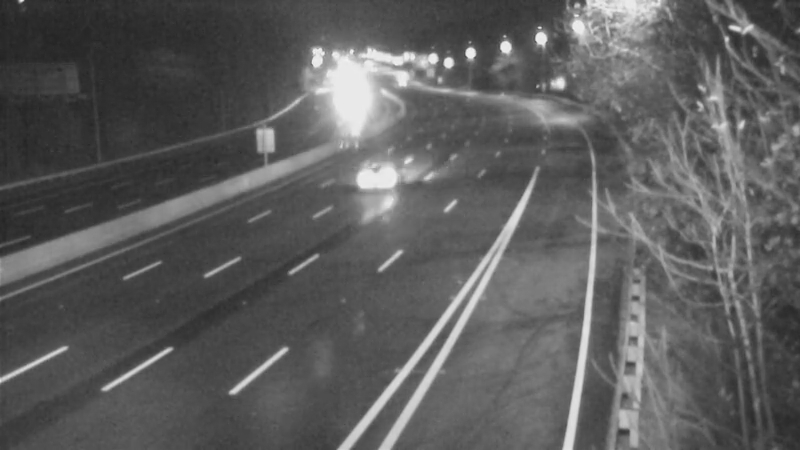vehicle: (327, 146, 407, 226)
